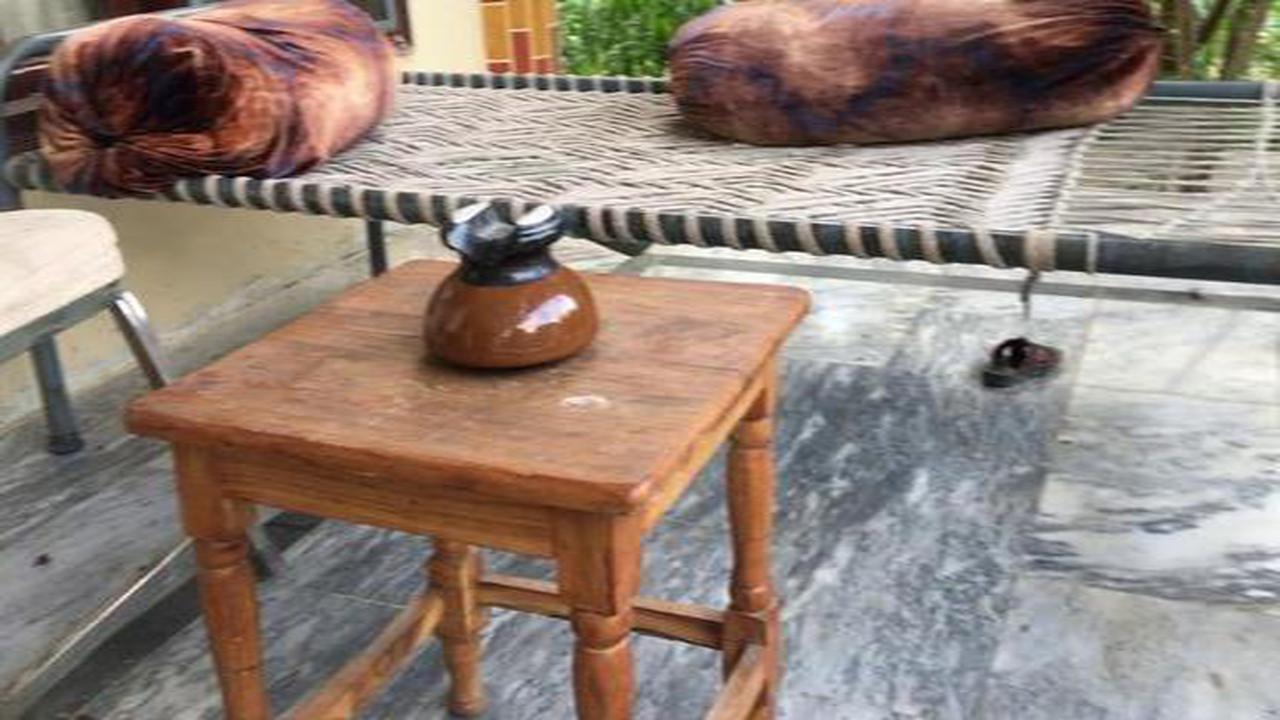insulator_pin: (407, 189, 622, 381)
